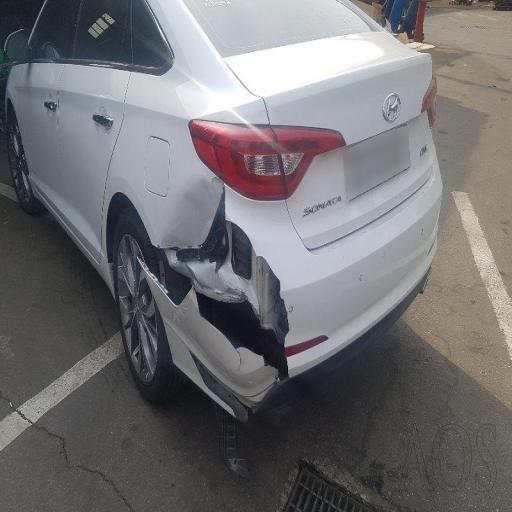broken: (141, 163, 322, 419)
